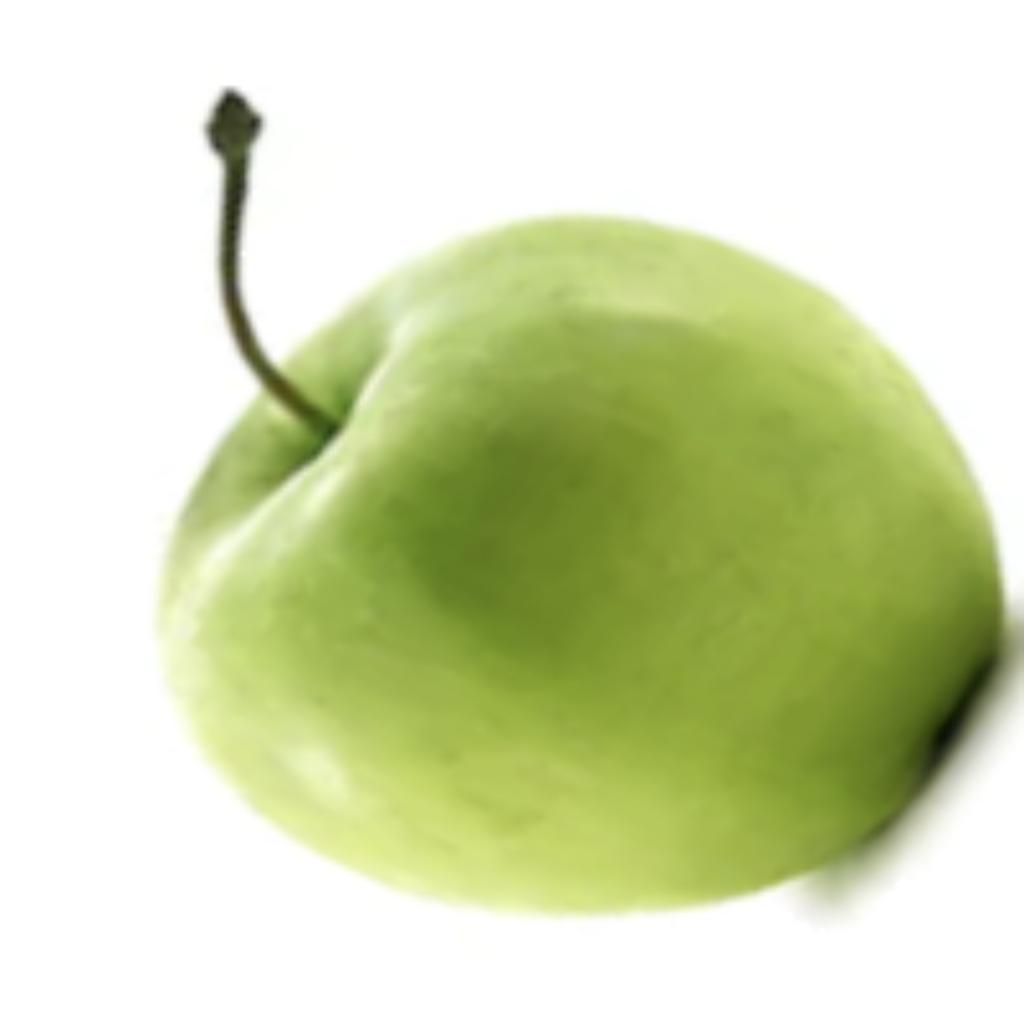apple: (148, 205, 1019, 932)
